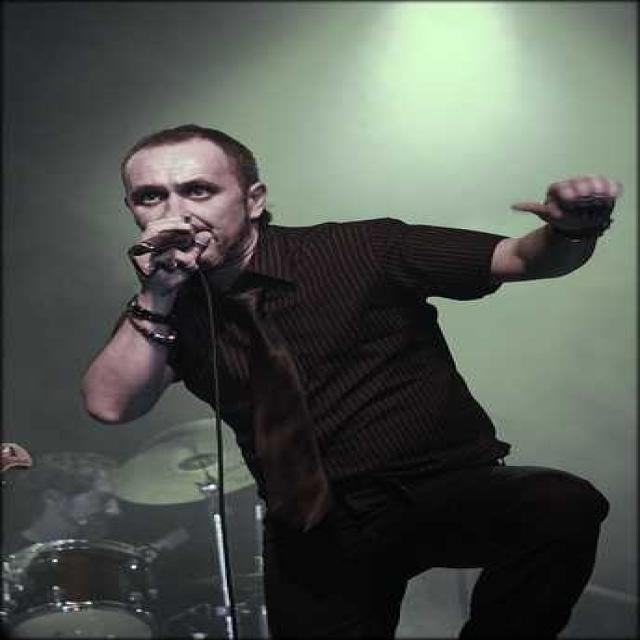microphone: (95, 204, 248, 282)
